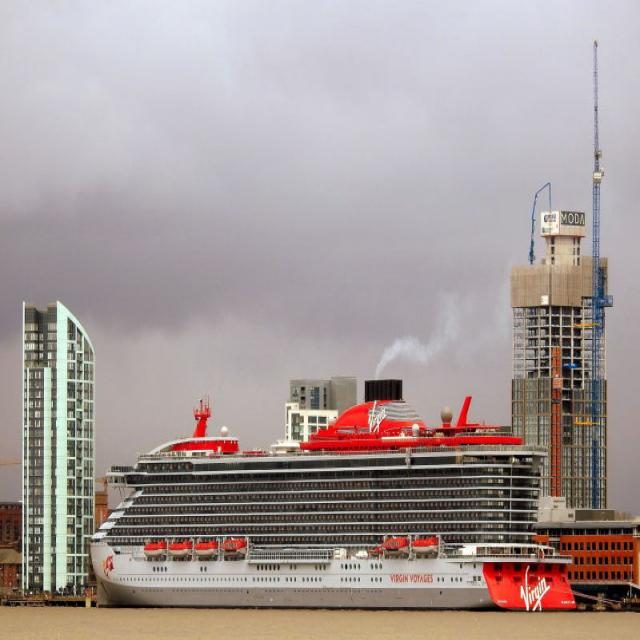cruises: (88, 386, 585, 614)
